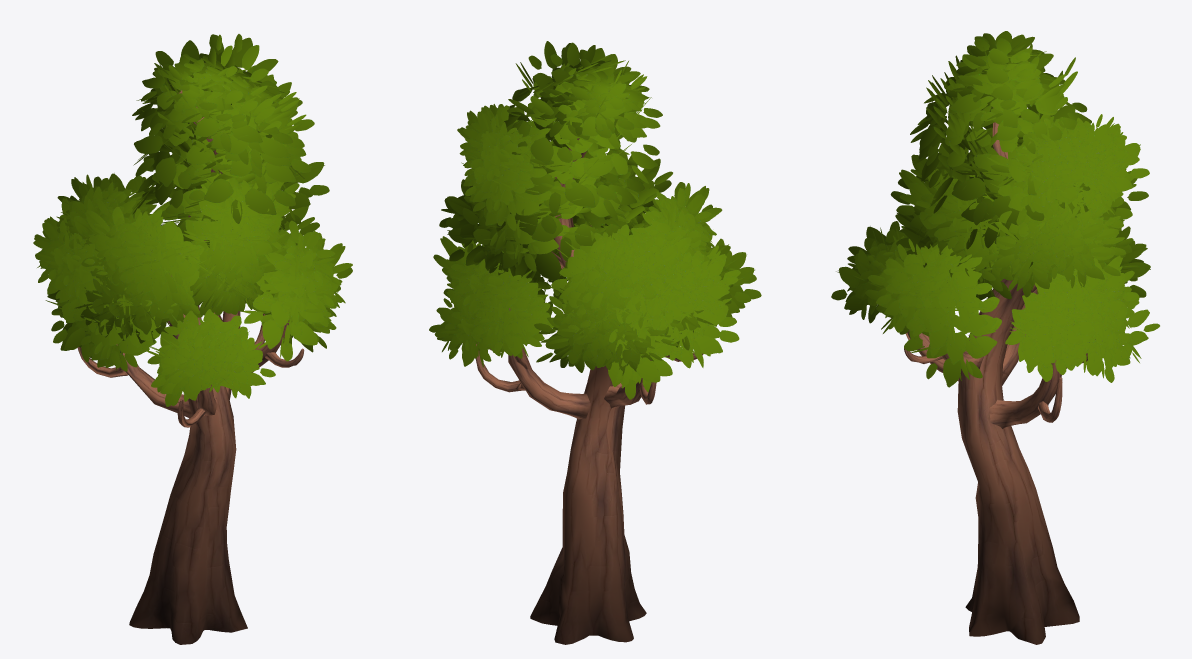
File: CommonTree_2.glb
The picture shows the model from 3 angles, left to right: view 1: azimuth 30°, elevation 25°; view 2: azimuth 150°, elevation 25°; view 3: azimuth 270°, elevation 25°; orthographic projection. The views are drawn at different scales.
Parts seen in each view (by area): view 1: CommonTree_2; view 2: CommonTree_2; view 3: CommonTree_2.
Boxes of the visible parts, <box> form: CommonTree_2: <box>33,34,352,644</box>; CommonTree_2: <box>429,41,761,644</box>; CommonTree_2: <box>831,31,1159,644</box>.
Bounding box in the file's own units: 4.46 × 7.64 × 4.28.
2 materials, 2 textured.
